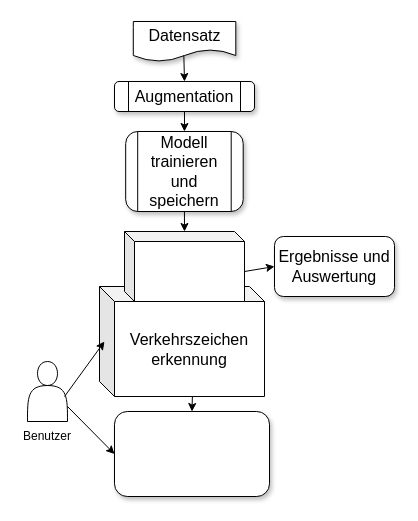
The diagram is 418 pixels wide and 521 high, and some of its shapes have lost their labels. The shapes that lost their labels are listed below. From the top down, each one's centre as x and y in pixels, then its label:
point (184, 266): Modell
point (193, 455): Ausgabe erkannter Verkehrzeichen
